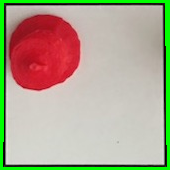Red King: (8, 10, 83, 94)
